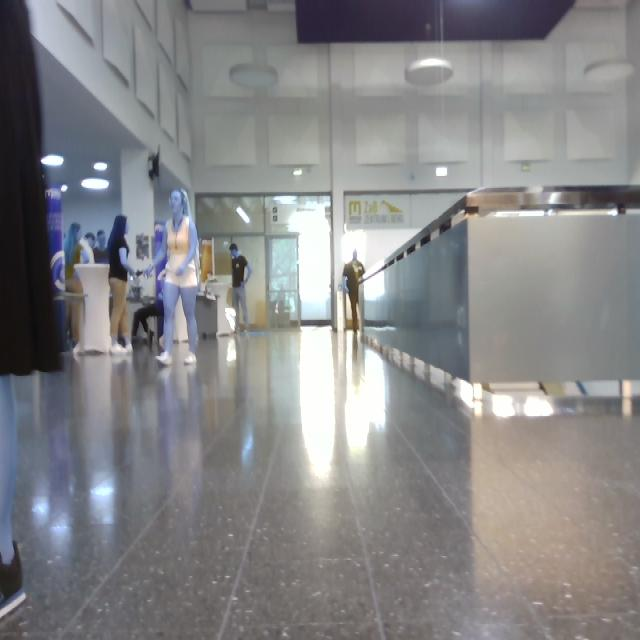door: (197, 196, 331, 329)
light bulb: (355, 48, 406, 98), (406, 58, 452, 86), (231, 64, 278, 90), (584, 61, 635, 82), (149, 150, 160, 181), (82, 179, 110, 191), (236, 206, 250, 224), (42, 156, 64, 167), (154, 161, 160, 179), (95, 164, 108, 172)
person: (1, 1, 61, 619), (145, 191, 199, 366), (65, 224, 95, 354), (109, 216, 136, 354), (230, 244, 254, 332), (344, 251, 366, 332)
staircase: (362, 188, 640, 396), (297, 2, 576, 44)
table: (77, 266, 112, 354)
tiled floor: (1, 330, 640, 640)
